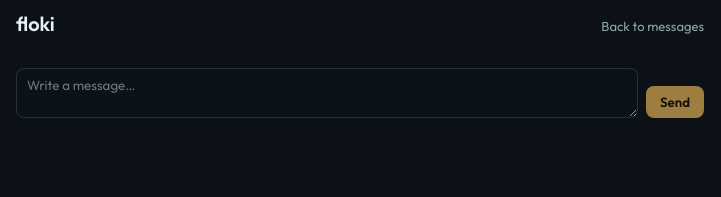
Scenario: ConversationView › sends a message and appends it to the thread
Type "hello!" into the text box with placeholder "Write a message…".
click(327, 93); type("hello!")  # box [16, 68, 638, 118]
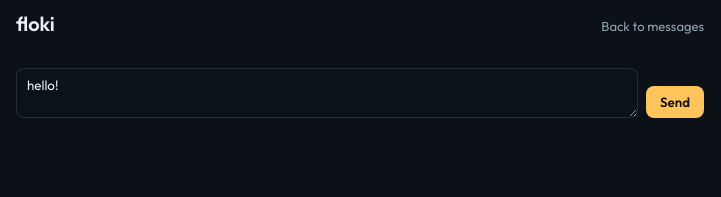
Click the button "Send".
click(675, 102)  # box [646, 86, 704, 118]
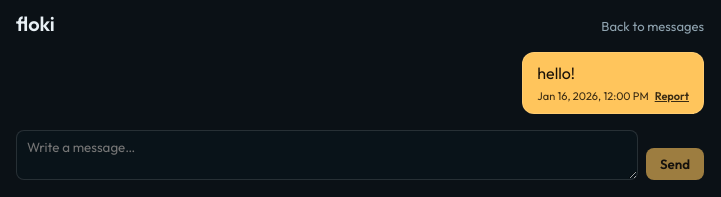
Now the text with class "body" reads "hello!", box [537, 63, 575, 83]
